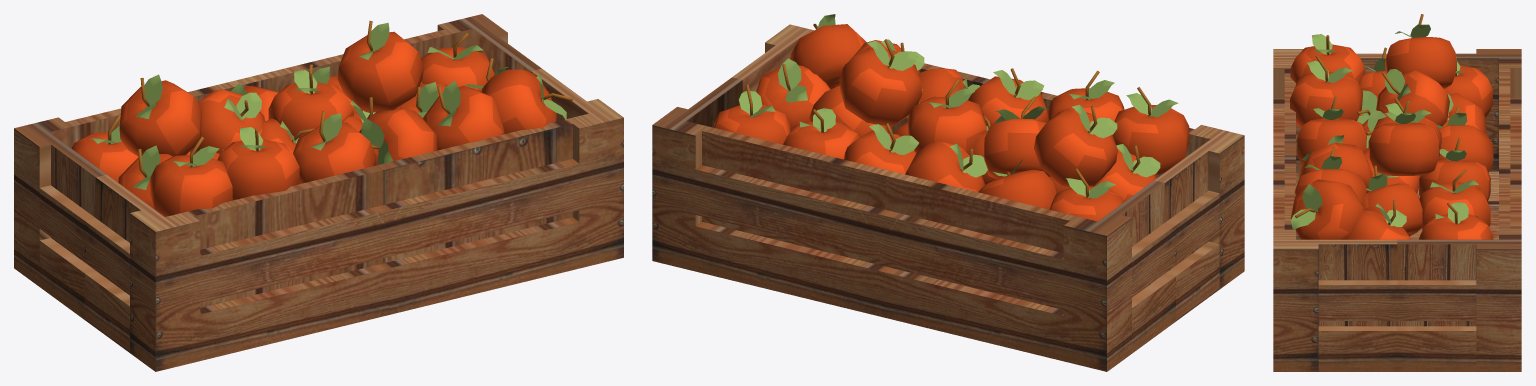
File: box_tomat.fbx
3 renders of one model, left to right at view 1: azimuth 30°, elevation 25°; view 2: azimuth 150°, elevation 25°; view 3: azimuth 270°, elevation 25°, orthographic. The views are drawn at different scales.
Visible parts, largest first — view 1: G-Object.004; view 2: G-Object.004; view 3: G-Object.004.
Boxes of the visible parts, x1,y1,x2,y2 form: G-Object.004: (14,14,623,371); G-Object.004: (652,14,1244,371); G-Object.004: (1273,14,1521,371).
Size of the model in its own units: 67.2 by 30.66 by 35.2.
